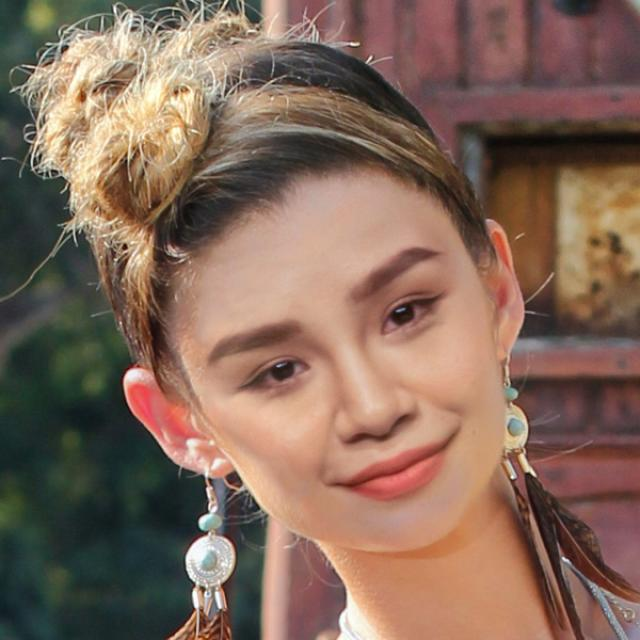face: (148, 204, 527, 566)
